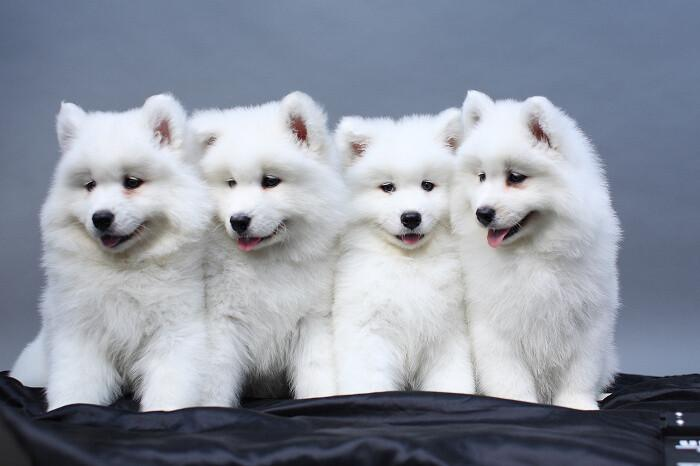dog: (10, 90, 197, 416), (464, 88, 624, 411), (332, 95, 458, 413), (202, 92, 326, 407)
